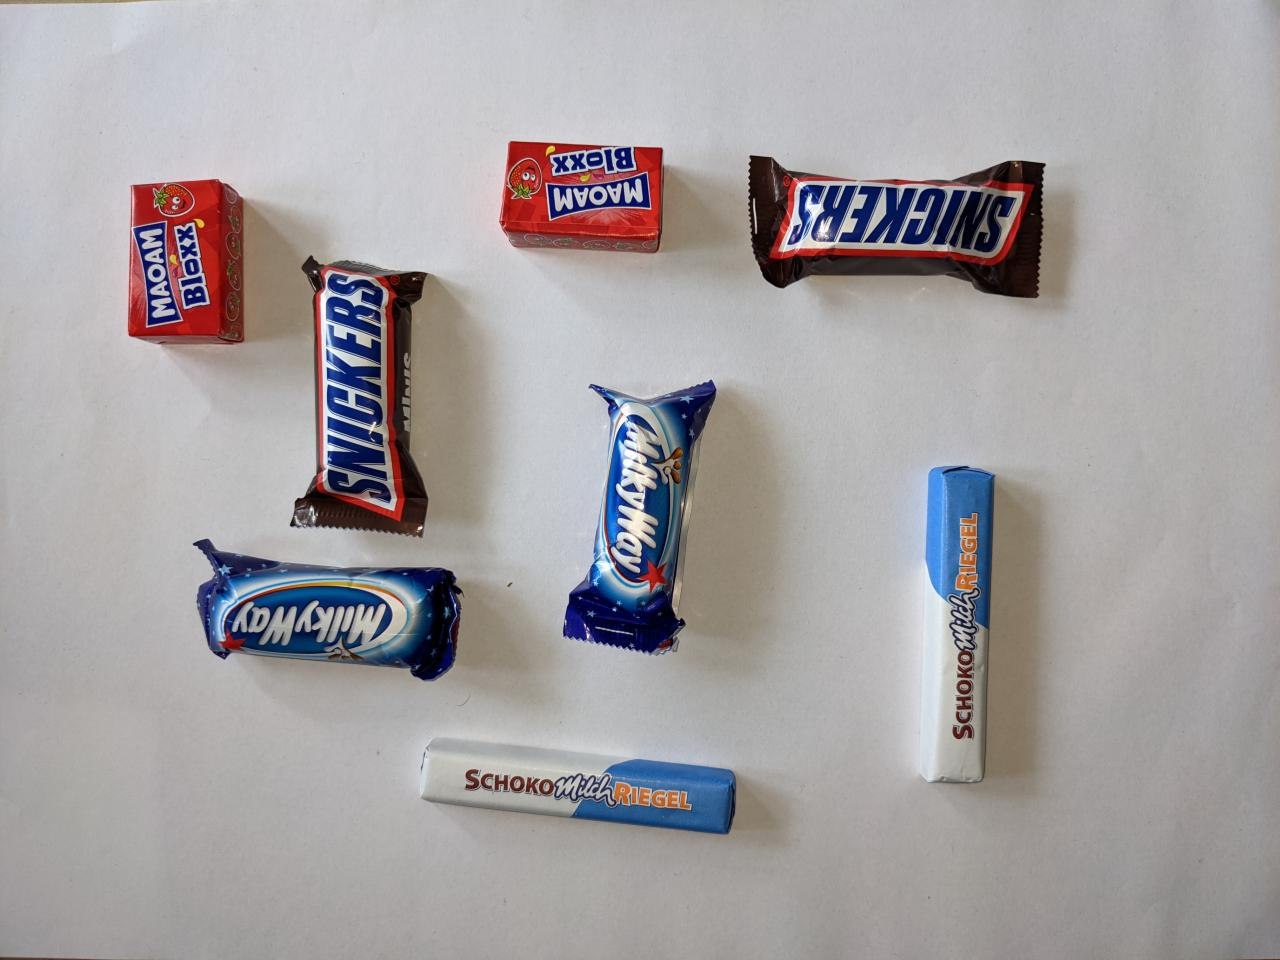MAOAM: (123, 177, 250, 351), (497, 135, 671, 257)
MilkyWay: (556, 370, 724, 659), (185, 533, 468, 685)
Schokoriegel: (412, 734, 745, 841), (902, 461, 1004, 790)
Snickers: (738, 148, 1051, 307), (286, 255, 434, 543)
